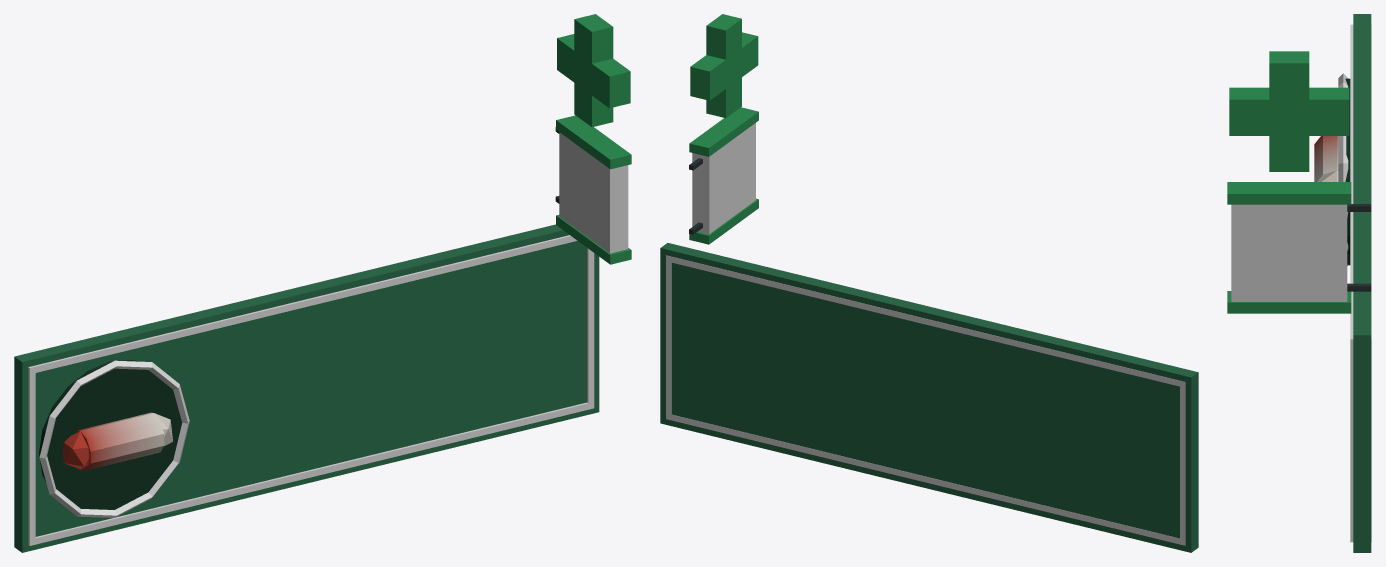
File: bang_quay_thuoc_hanh_phuc_40.glb
3 renders of one model, left to right at view 1: azimuth 30°, elevation 25°; view 2: azimuth 150°, elevation 25°; view 3: azimuth 270°, elevation 25°, orthographic. The views are drawn at different scales.
Visible parts, largest first — view 1: bang_quay_thuoc_hanh_phuc_40; view 2: bang_quay_thuoc_hanh_phuc_40; view 3: bang_quay_thuoc_hanh_phuc_40.
Boxes of the visible parts, bbox=[...] form: bang_quay_thuoc_hanh_phuc_40: bbox=[14, 14, 631, 552]; bang_quay_thuoc_hanh_phuc_40: bbox=[660, 14, 1198, 552]; bang_quay_thuoc_hanh_phuc_40: bbox=[1227, 14, 1371, 552].
Bounding box in the file's own units: 3.8 × 2.63 × 0.722.
